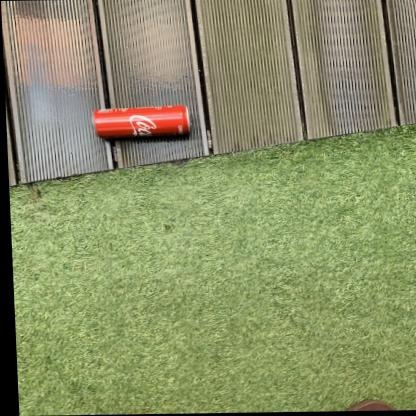trash: (94, 105, 189, 138)
